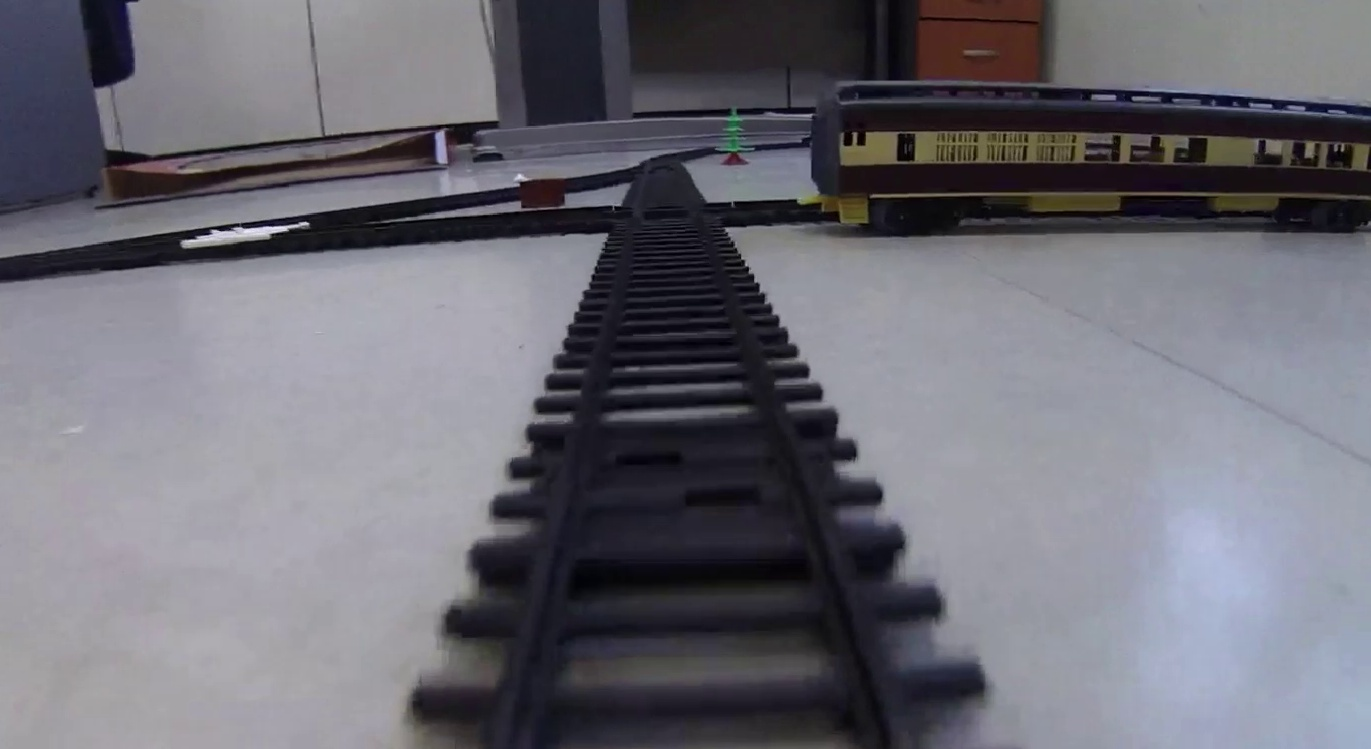tree: (712, 107, 753, 165)
